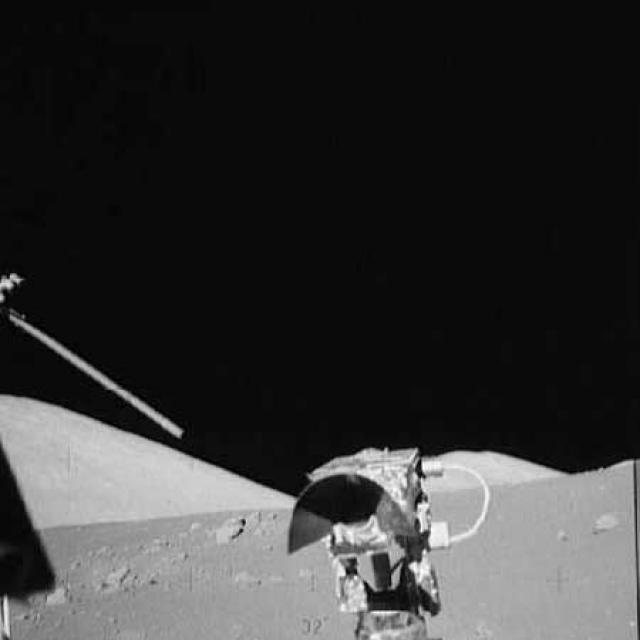artifact: (280, 441, 497, 638), (1, 266, 197, 439)
rock: (585, 503, 627, 536), (94, 564, 136, 596), (214, 510, 248, 544), (46, 586, 76, 608)
